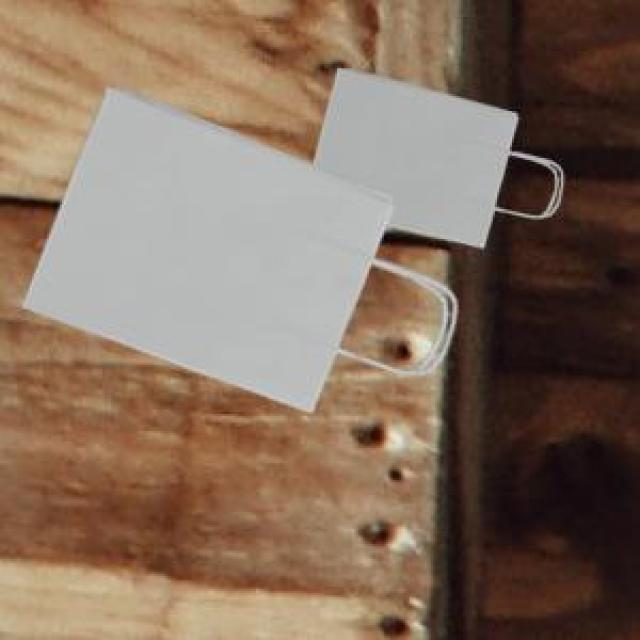paper: (17, 83, 452, 408), (309, 64, 550, 243)
